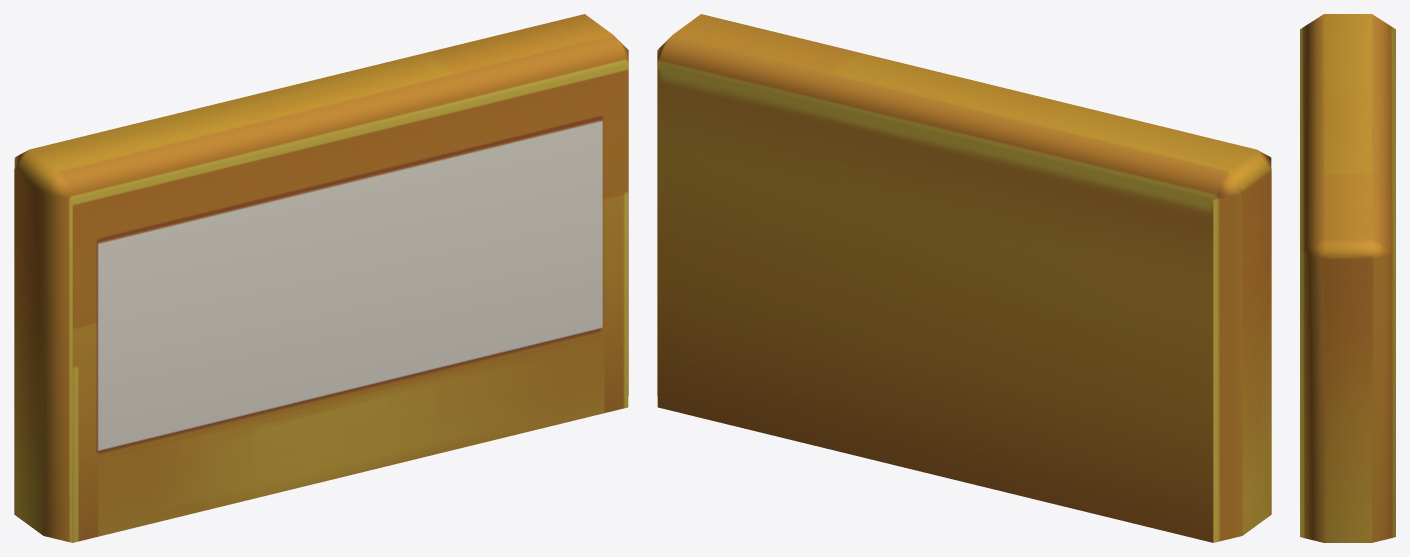
The model's file is MD_sloth_cassette.fbx.
The picture shows the model from 3 angles, left to right: view 1: azimuth 30°, elevation 25°; view 2: azimuth 150°, elevation 25°; view 3: azimuth 270°, elevation 25°; orthographic projection. The views are drawn at different scales.
Visible parts, largest first — view 1: MD_cassette; view 2: MD_cassette; view 3: MD_cassette.
Part boxes in pixels (x1,y1,x2,y2): MD_cassette: [14, 14, 628, 542]; MD_cassette: [657, 14, 1271, 542]; MD_cassette: [1300, 14, 1395, 542].
Bounding box in the file's own units: 19.08 × 11.26 × 3.28.
1 material, 1 textured.
